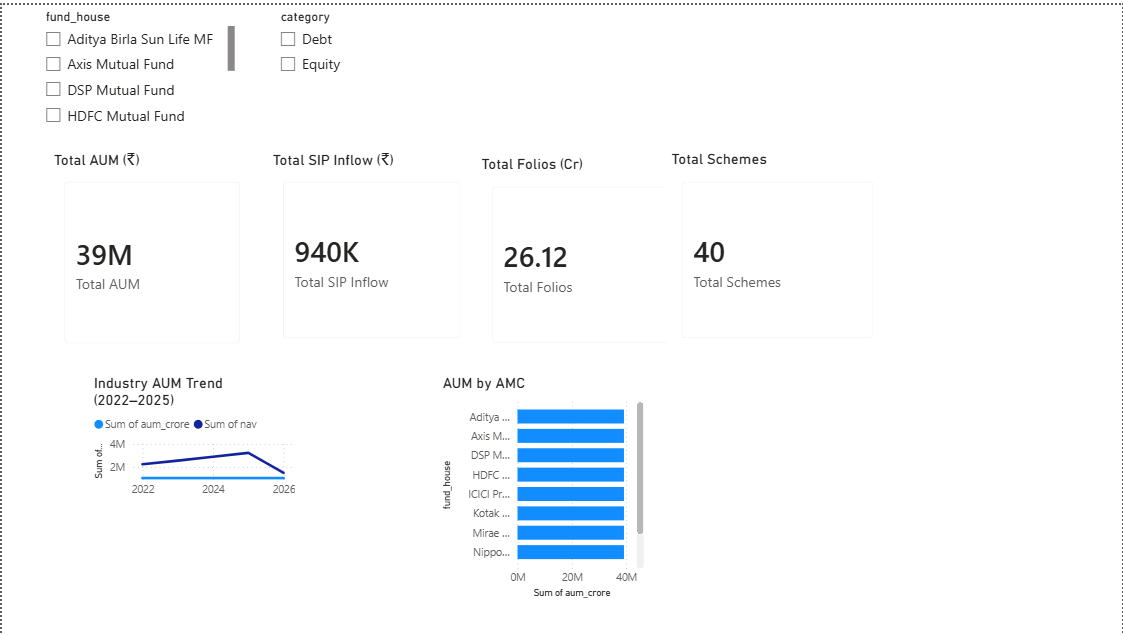

Layout of this report page (visuals, bound fields, positions):
{"tool":"powerbi","page":{"name":"Industry Overview","canvas":[1280,720],"ordinal":0},"visuals":[{"type":"cardVisual","title":"Total AUM (₹)","fields":{"Data":["03_aum_by_fund_house.Total AUM"]},"box":[54.4,165.7,235.3,239.1],"z":0},{"type":"cardVisual","title":"Total SIP Inflow (₹)","fields":{"Data":["04_monthly_sip_inflows.Total SIP Inflow"]},"box":[304.9,165.7,237.8,232.8],"z":1000},{"type":"cardVisual","title":"Total Folios (Cr)","fields":{"Data":["06_industry_folio_count.Total Folios"]},"box":[542.7,172.1,240.4,232.8],"z":2000},{"type":"cardVisual","title":"Total Schemes","fields":{"Data":["01_fund_master.Total Schemes"]},"box":[760.3,165.7,253,232.8],"z":3000},{"type":"clusteredBarChart","title":"AUM by AMC","fields":{"Category":["01_fund_master.fund_house"],"Y":["Sum(03_aum_by_fund_house.aum_crore)"]},"box":[498.6,421.4,240,261.4],"z":5000},{"type":"slicer","fields":{"Values":["03_aum_by_fund_house.fund_house"]},"box":[36.7,0,234,150.5],"z":6000},{"type":"slicer","fields":{"Values":["01_fund_master.category"]},"box":[305,0,238,150],"z":7000},{"type":"lineChart","title":"Industry AUM Trend (2022–2025)","fields":{"Category":["10_benchmark_indices.date.Variation.Date Hierarchy.Year","10_benchmark_indices.date.Variation.Date Hierarchy.Quarter","10_benchmark_indices.date.Variation.Date Hierarchy.Month","10_benchmark_indices.date.Variation.Date Hierarchy.Day"],"Y":["Sum(07_scheme_performance_clean.aum_crore)","Sum(02_nav_history_clean.nav)"]},"box":[100,421.4,240,150],"z":7001}]}

Visuals, with their boxes in screenshot pixels (x1, y1, x2, y2), scaled from the page's 1280x720 canvas onto the 1123x635 screenshot:
"Total AUM (₹)" cardVisual: left=48, top=146, right=254, bottom=357
"Total SIP Inflow (₹)" cardVisual: left=268, top=146, right=476, bottom=351
"Total Folios (Cr)" cardVisual: left=476, top=152, right=687, bottom=357
"Total Schemes" cardVisual: left=667, top=146, right=889, bottom=351
"AUM by AMC" clusteredBarChart: left=437, top=372, right=648, bottom=602
slicer - 03_aum_by_fund_house.fund_house: left=32, top=0, right=237, bottom=133
slicer - 01_fund_master.category: left=268, top=0, right=476, bottom=132
"Industry AUM Trend (2022–2025)" lineChart: left=88, top=372, right=298, bottom=504
